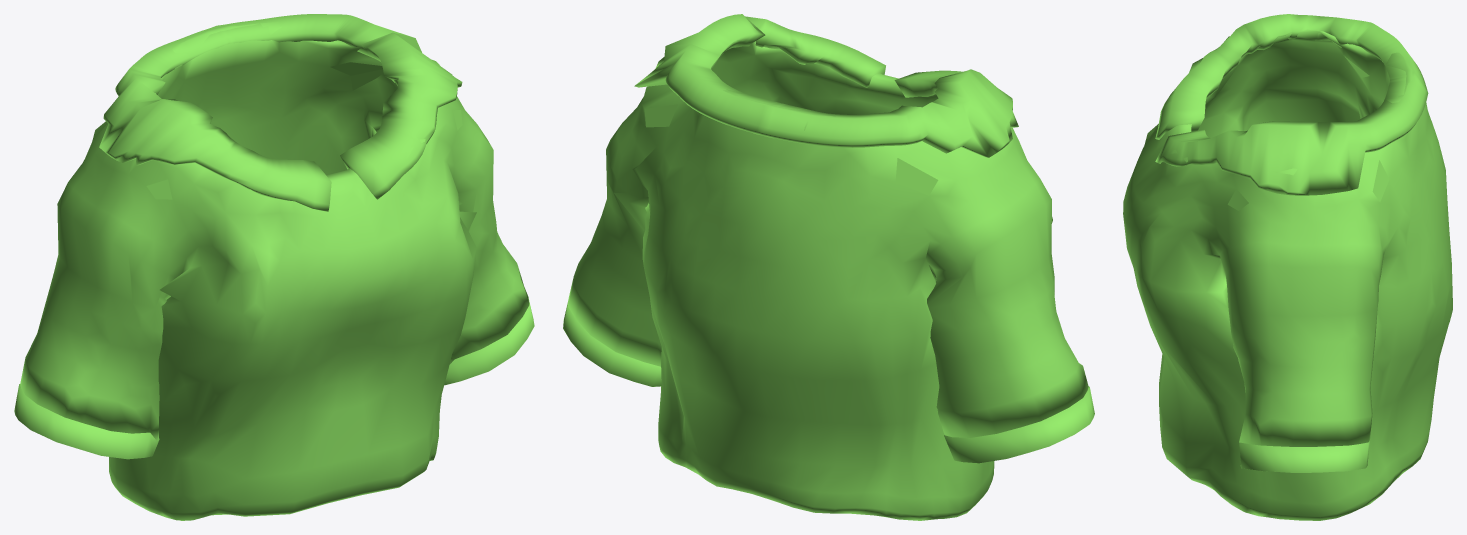
File: Chemise Rozenn2.fbx
3 renders of one model, left to right at view 1: azimuth 30°, elevation 25°; view 2: azimuth 150°, elevation 25°; view 3: azimuth 270°, elevation 25°, orthographic. The views are drawn at different scales.
Visible parts, largest first — view 1: Chemise Rozenn; view 2: Chemise Rozenn; view 3: Chemise Rozenn.
Boxes of the visible parts, x1,y1,x2,y2 form: Chemise Rozenn: (14, 14, 534, 520); Chemise Rozenn: (563, 14, 1094, 520); Chemise Rozenn: (1123, 14, 1452, 520).
Bounding box in the file's own units: 316 × 245 × 190.
